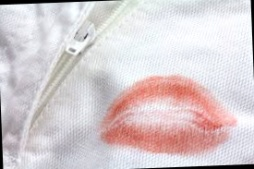lipstick: (97, 74, 231, 155)
